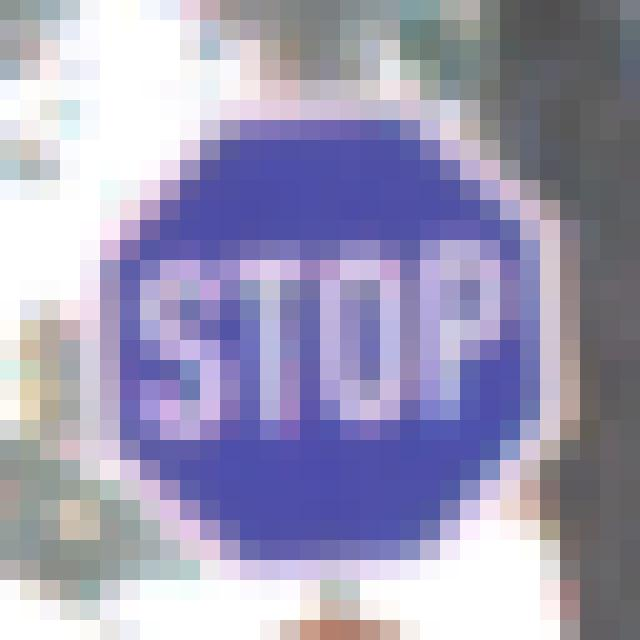STOP: (106, 121, 520, 554)
